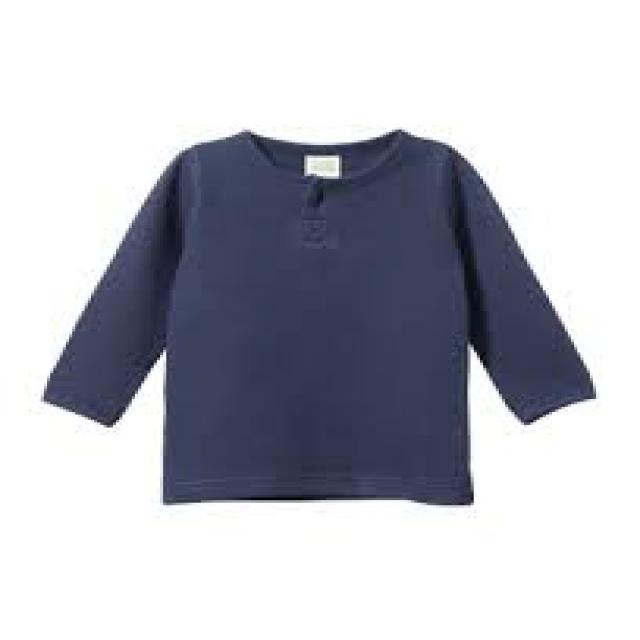plain: (43, 114, 610, 514)
